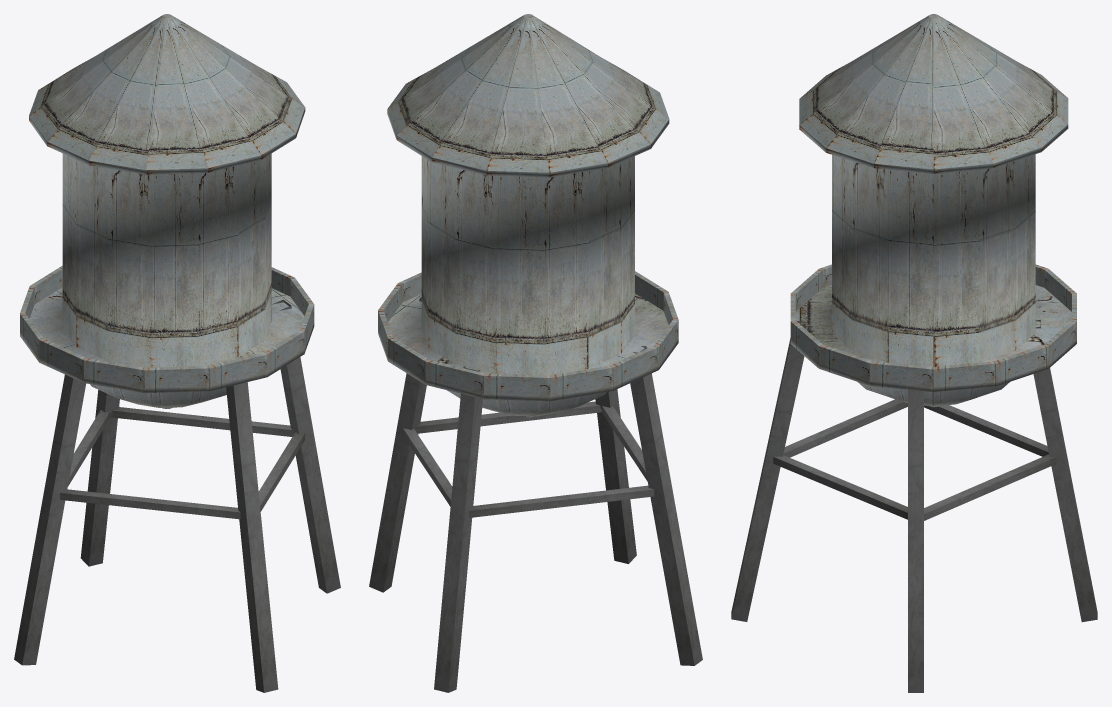
The model's file is watertank.FBX.
The picture shows the model from 3 angles, left to right: view 1: azimuth 30°, elevation 25°; view 2: azimuth 150°, elevation 25°; view 3: azimuth 270°, elevation 25°; orthographic projection. The views are drawn at different scales.
Visible parts, largest first — view 1: Cylinder001; view 2: Cylinder001; view 3: Cylinder001.
Part boxes in pixels (<box>): Cylinder001: <box>14,14,340,692</box>; Cylinder001: <box>369,14,702,692</box>; Cylinder001: <box>731,14,1097,692</box>.
Size of the model in its own units: 15.8 by 28.61 by 15.8.
